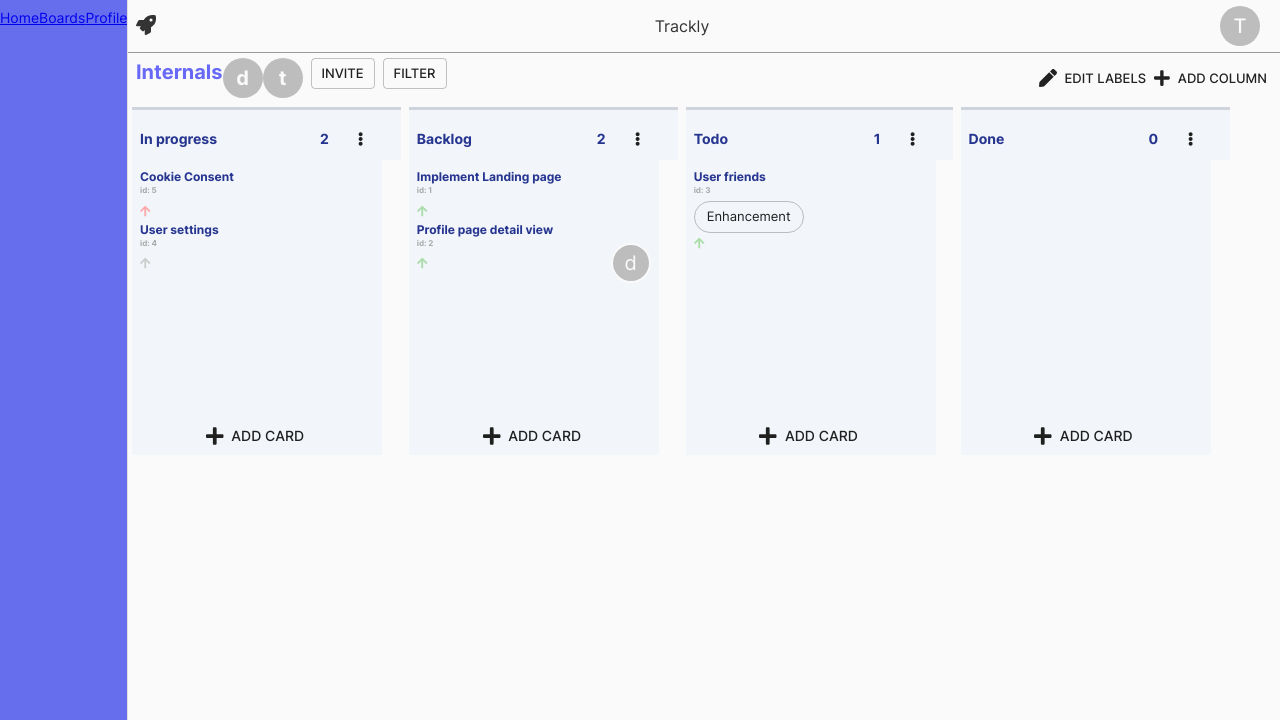
Test: Task › should delete task
This screenshot has width=1280, height=720.
Step 1. Click the button with test id "task-1" → (534, 195), box top-left (417, 168), bottom-right (651, 221)
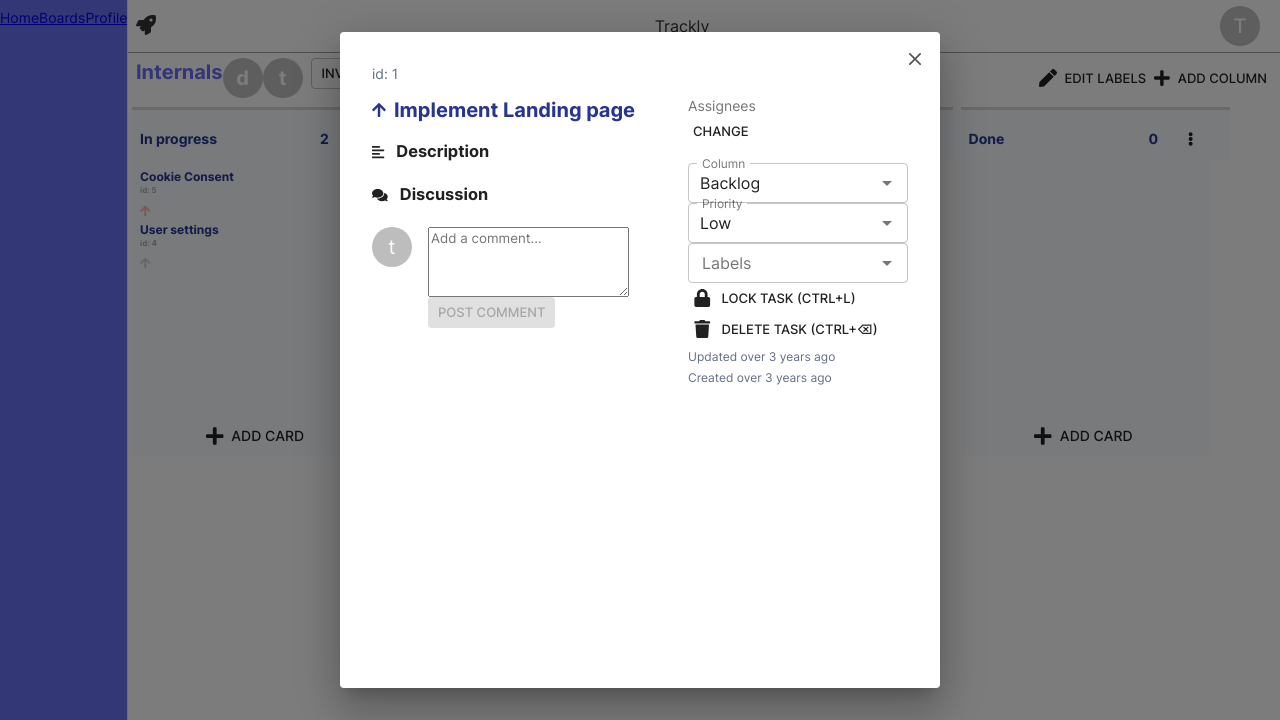
Step 2. Click the button with test id "delete-task" → (786, 330), box top-left (688, 314), bottom-right (883, 345)
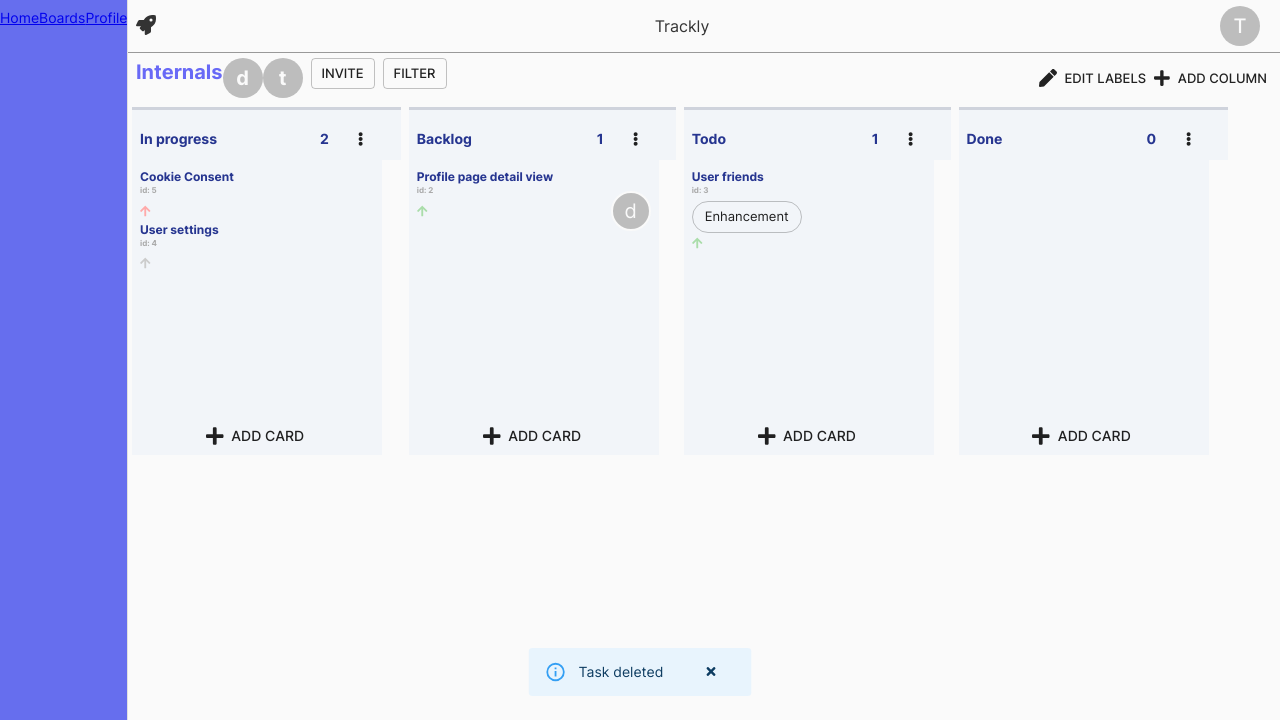
Expected: the button with test id "task-1" is gone
